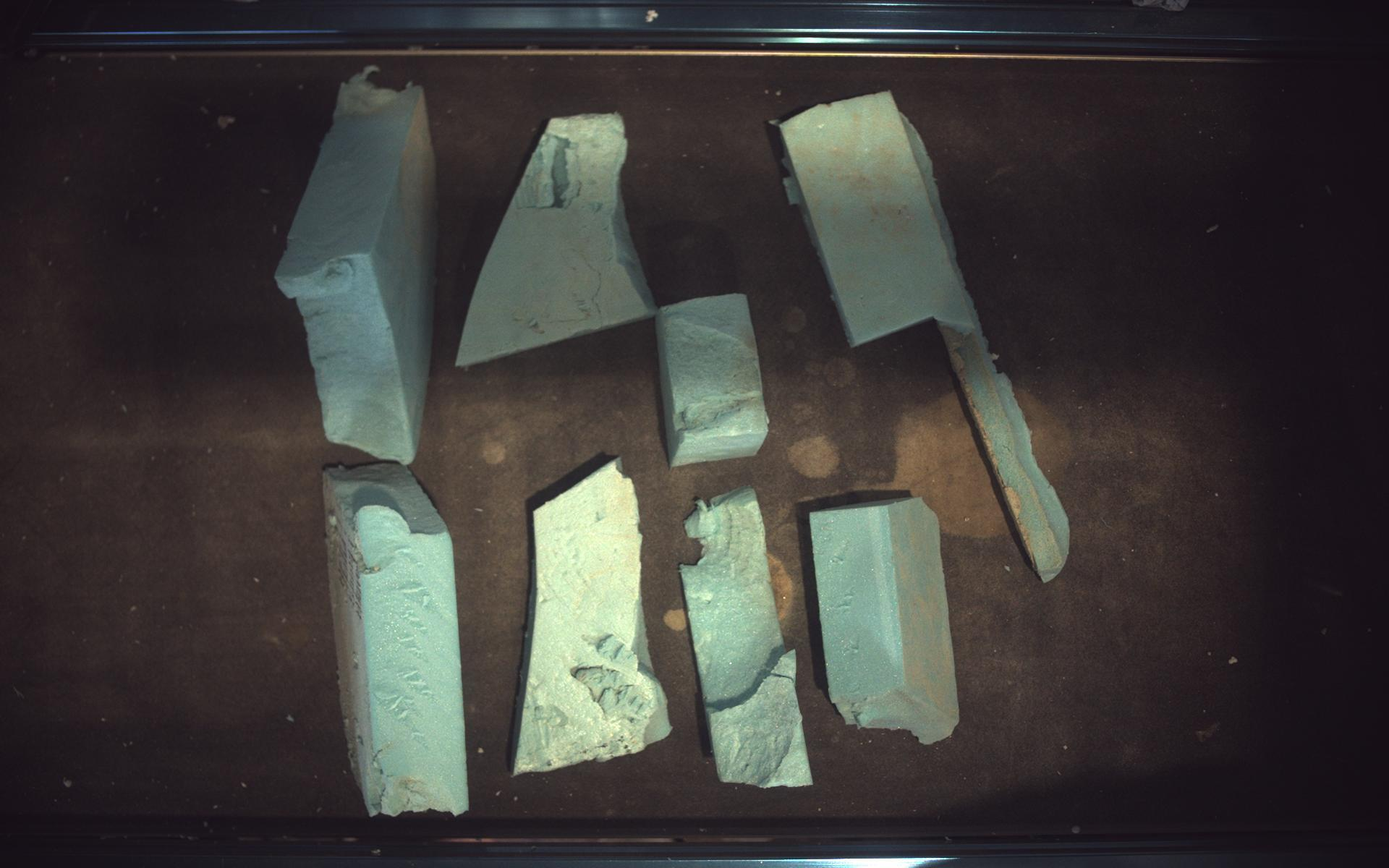foam: (781, 90, 1070, 582), (275, 66, 436, 464), (323, 463, 469, 817), (456, 112, 657, 366), (514, 459, 671, 775), (681, 488, 813, 790), (810, 498, 961, 745), (658, 294, 770, 467)
